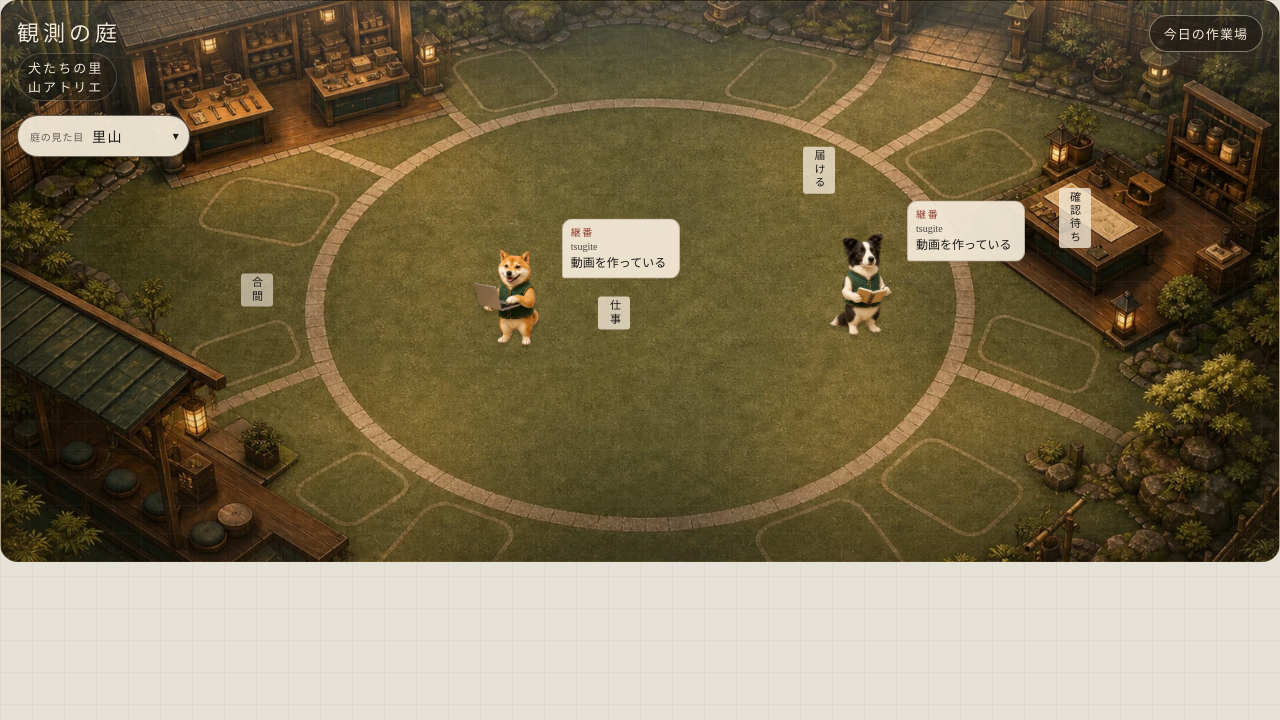
Scenario: ObserverGarden › names Codex in inspect now only when that live walk is Codex
The image size is (1280, 720).
Check: the text "動画を作っている" is shown 2 times, box [571,255,671,271]; [916,237,1016,253]
Click the 5th button.
click(849, 279)  # box [789,219,909,339]
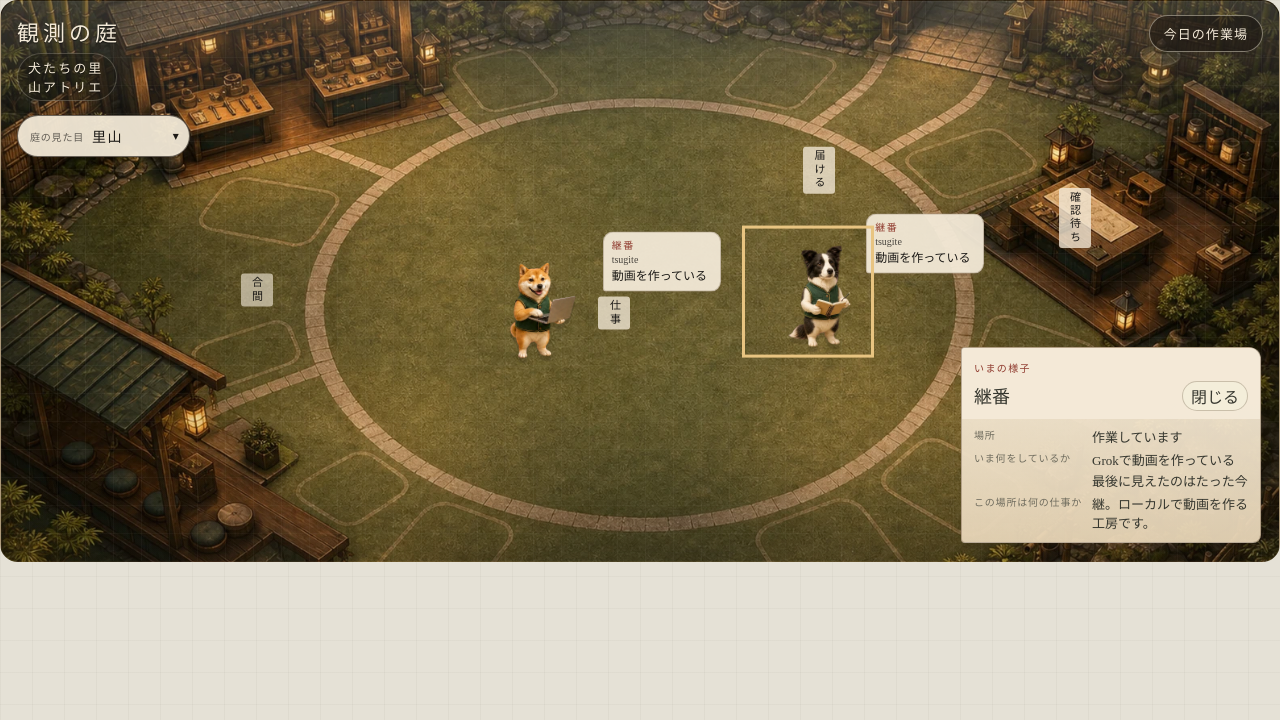
Check: the element with test id "garden-inspect" does not show "Codexで動画を作っている", box [961,347,1261,543]
Check: the element with test id "garden-inspect" shows "Grokで動画を作っている", box [1092,453,1235,468]
Click the button "閉じる".
click(1215, 396)  # box [1182,381,1248,411]
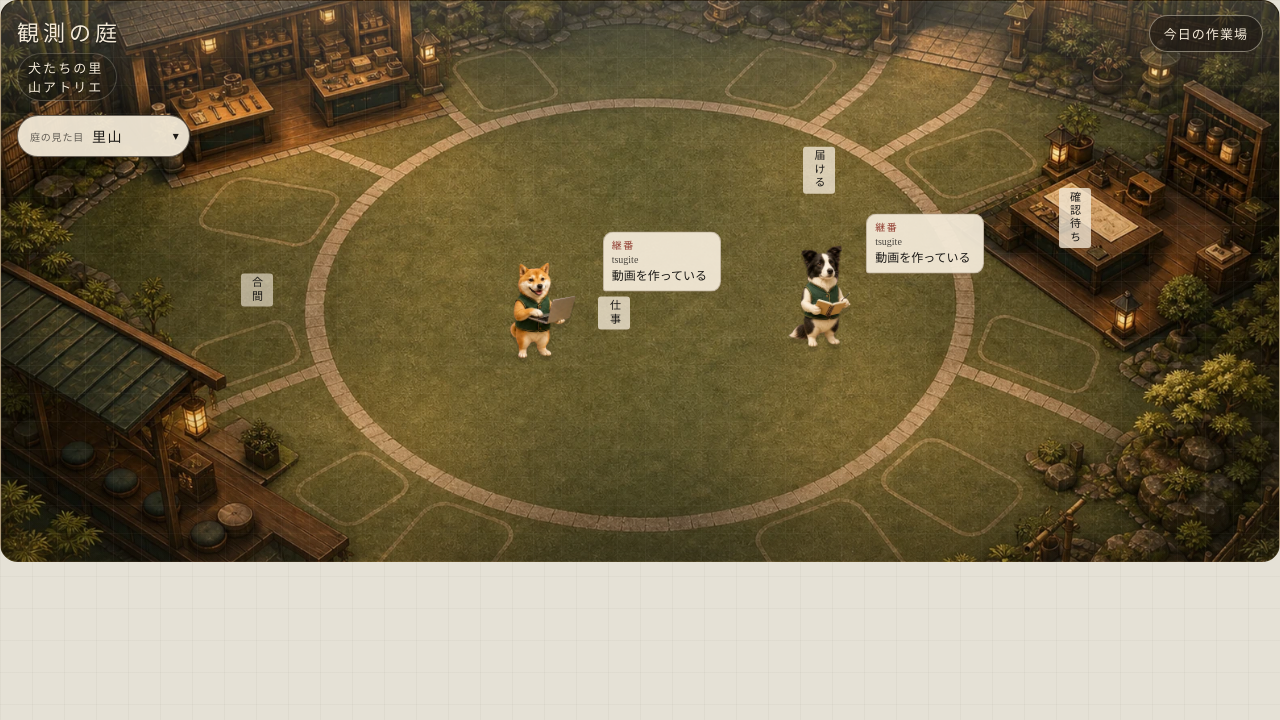
Click the 5th button.
click(545, 310)  # box [485,250,605,370]
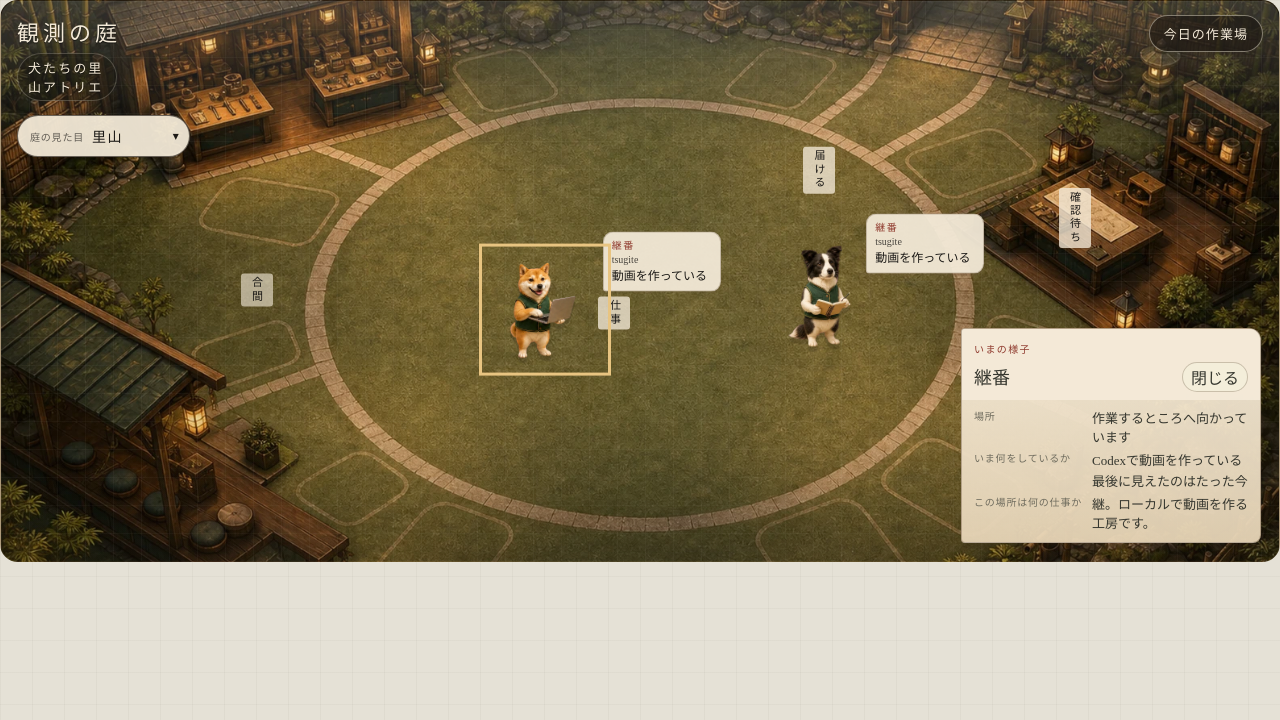
Check: the element with test id "garden-inspect" does not show "もう一つの仕事が動いている", box [961,328,1261,543]
Check: the element with test id "garden-inspect" shows "Codexで動画を作っている", box [1092,453,1242,468]
